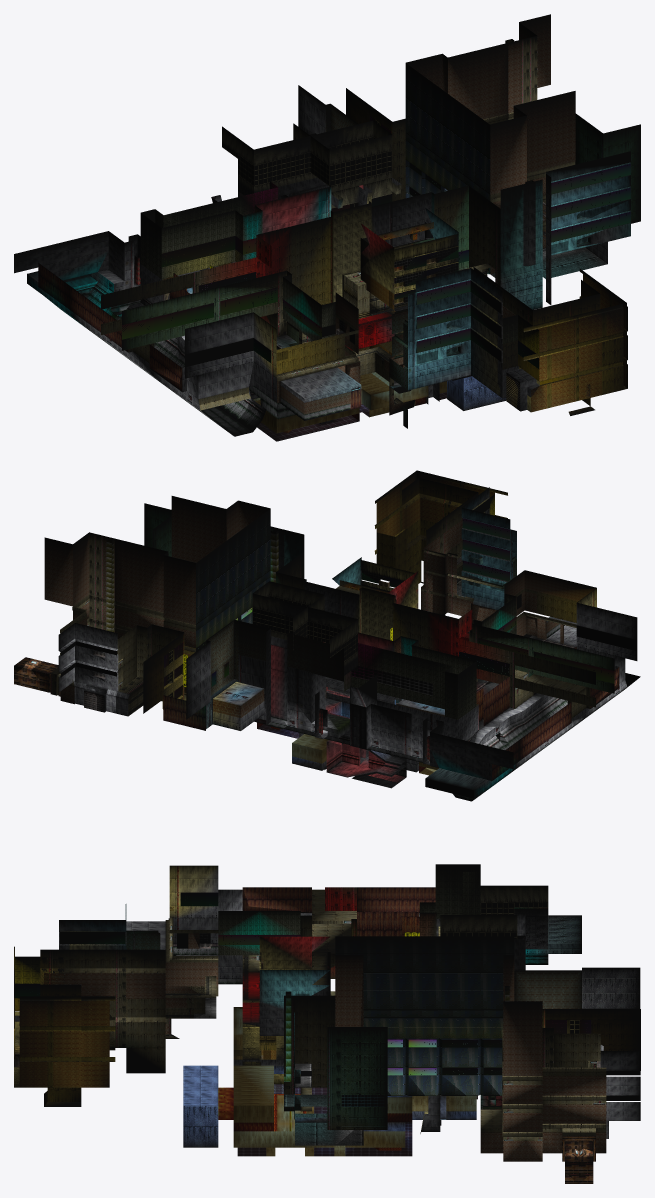
Rendered from ChicagoStealth.glb.
3 renders of one model, top to bottom at view 1: azimuth 30°, elevation 25°; view 2: azimuth 150°, elevation 25°; view 3: azimuth 270°, elevation 25°, orthographic. The views are drawn at different scales.
Visible parts, largest first — view 1: ChicagoStealth; view 2: ChicagoStealth; view 3: ChicagoStealth.
Part boxes in pixels (x1=…): ChicagoStealth: x1=14, y1=14, x2=640, y2=441; ChicagoStealth: x1=14, y1=470, x2=640, y2=801; ChicagoStealth: x1=14, y1=864, x2=640, y2=1183.
Bounding box in the file's own units: 746 × 316 × 697.
Materials: 64 (64 with a texture image).
